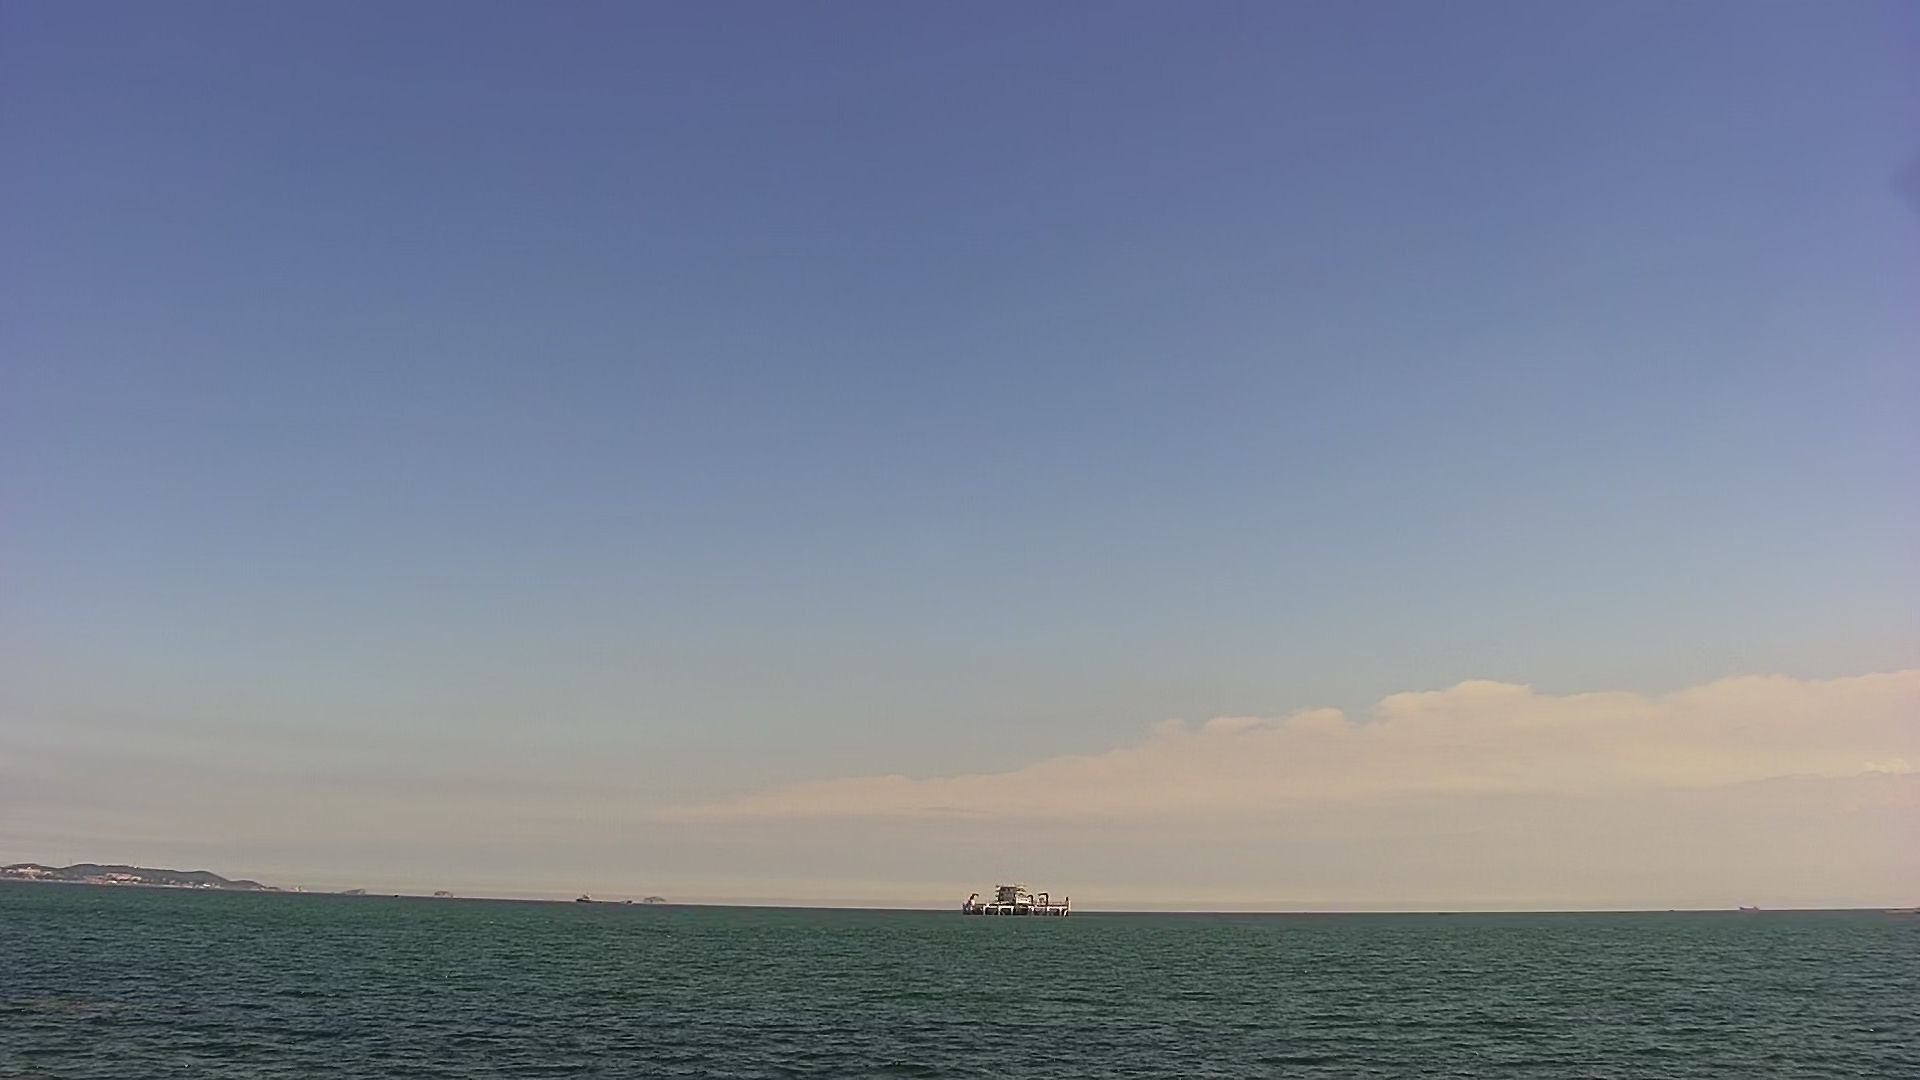platform: (948, 878, 1077, 920)
rock: (1, 855, 301, 895), (339, 877, 373, 899), (633, 887, 674, 905), (433, 881, 463, 899)
